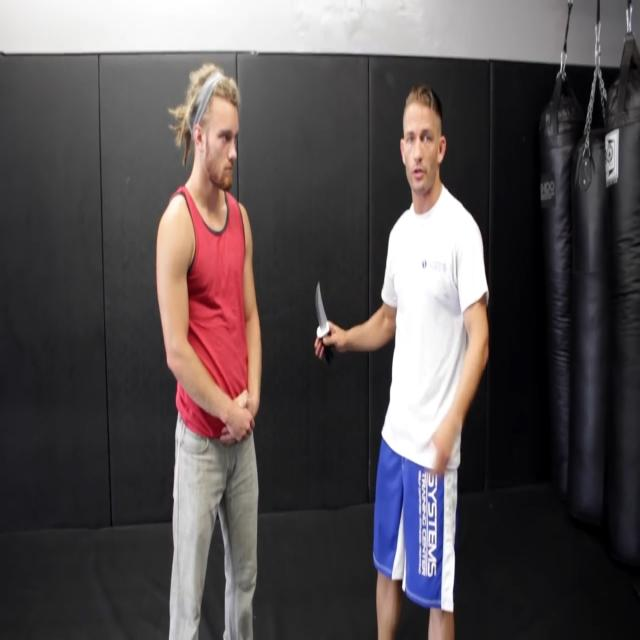knife: (315, 283, 333, 346)
